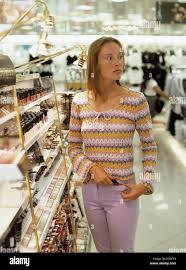shoplifting: (84, 156, 151, 206)
